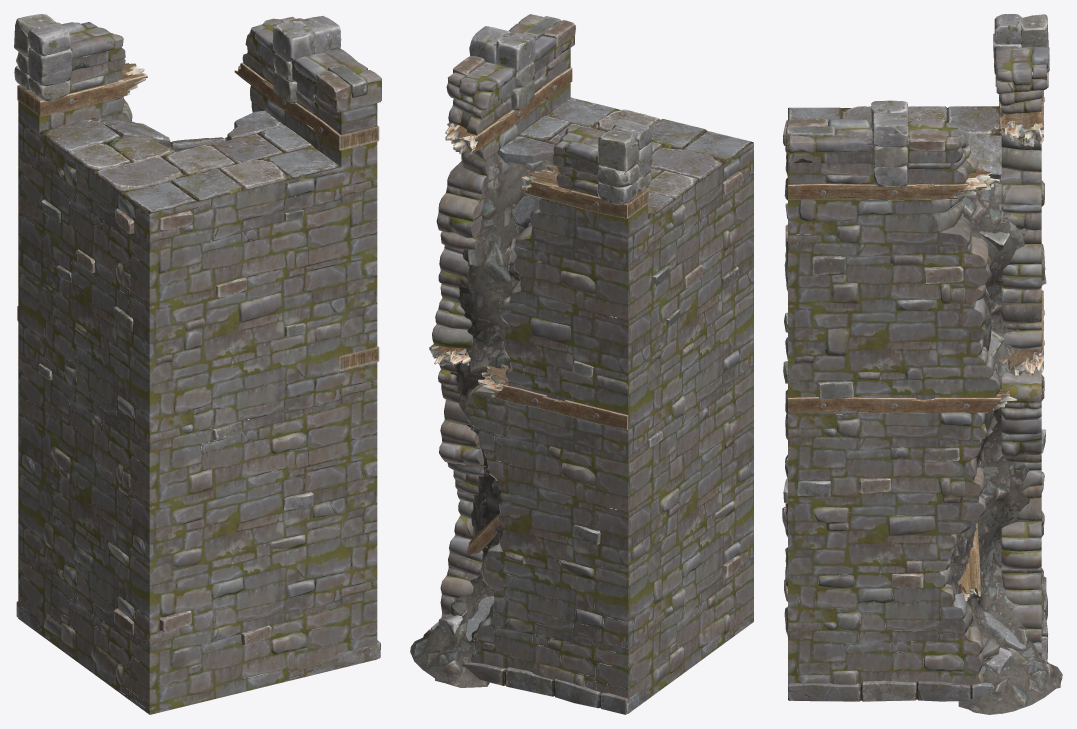
3 renders of one model, left to right at view 1: azimuth 30°, elevation 25°; view 2: azimuth 150°, elevation 25°; view 3: azimuth 270°, elevation 25°, orthographic. The views are drawn at different scales.
Visible parts, largest first — view 1: SM_Castle_Wall_4x12_01_Dmg_v8_LOD0; view 2: SM_Castle_Wall_4x12_01_Dmg_v8_LOD0; view 3: SM_Castle_Wall_4x12_01_Dmg_v8_LOD0.
Boxes of the visible parts, <box> form: SM_Castle_Wall_4x12_01_Dmg_v8_LOD0: <box>14,14,381,714</box>; SM_Castle_Wall_4x12_01_Dmg_v8_LOD0: <box>410,14,753,714</box>; SM_Castle_Wall_4x12_01_Dmg_v8_LOD0: <box>782,14,1062,714</box>.
Size of the model in its own units: 5.32 by 12.07 by 5.25.
Materials: 6 (6 with a texture image).
